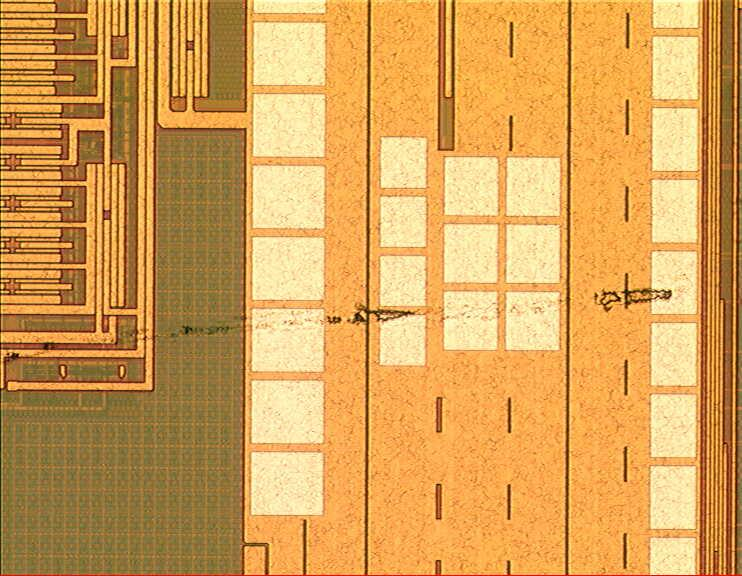SCRATCH: (1, 273, 698, 374)
